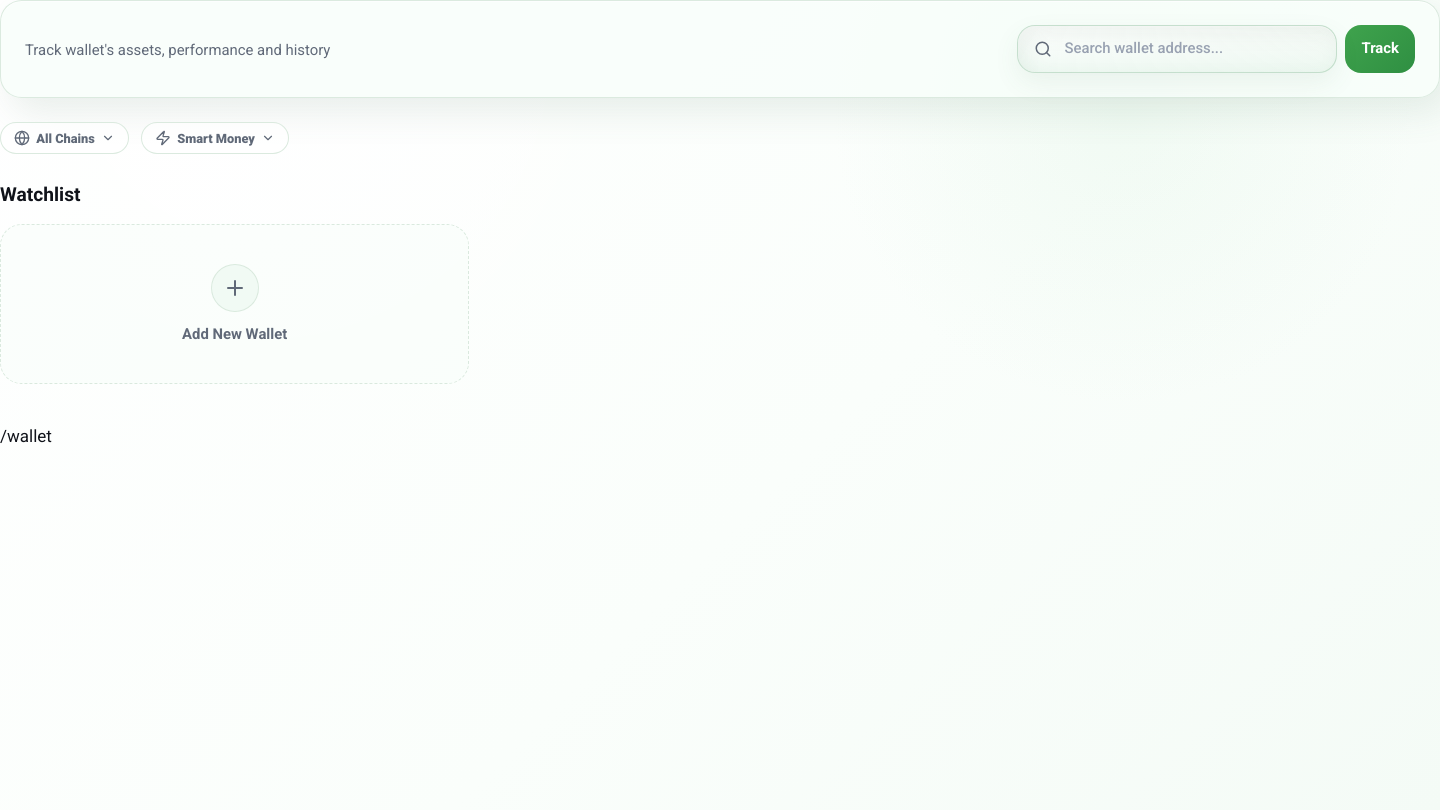
Test case: WalletTracking page › tracks a Solana wallet from search and lands on the Solana profile route
In the field with placeholder "Search wallet address...": (1192, 49) [1064, 38, 1320, 60], type "68VzUdiSmH2yiRZbNm9MCkqND2bNRJmpAQwRjoLEPg6B"
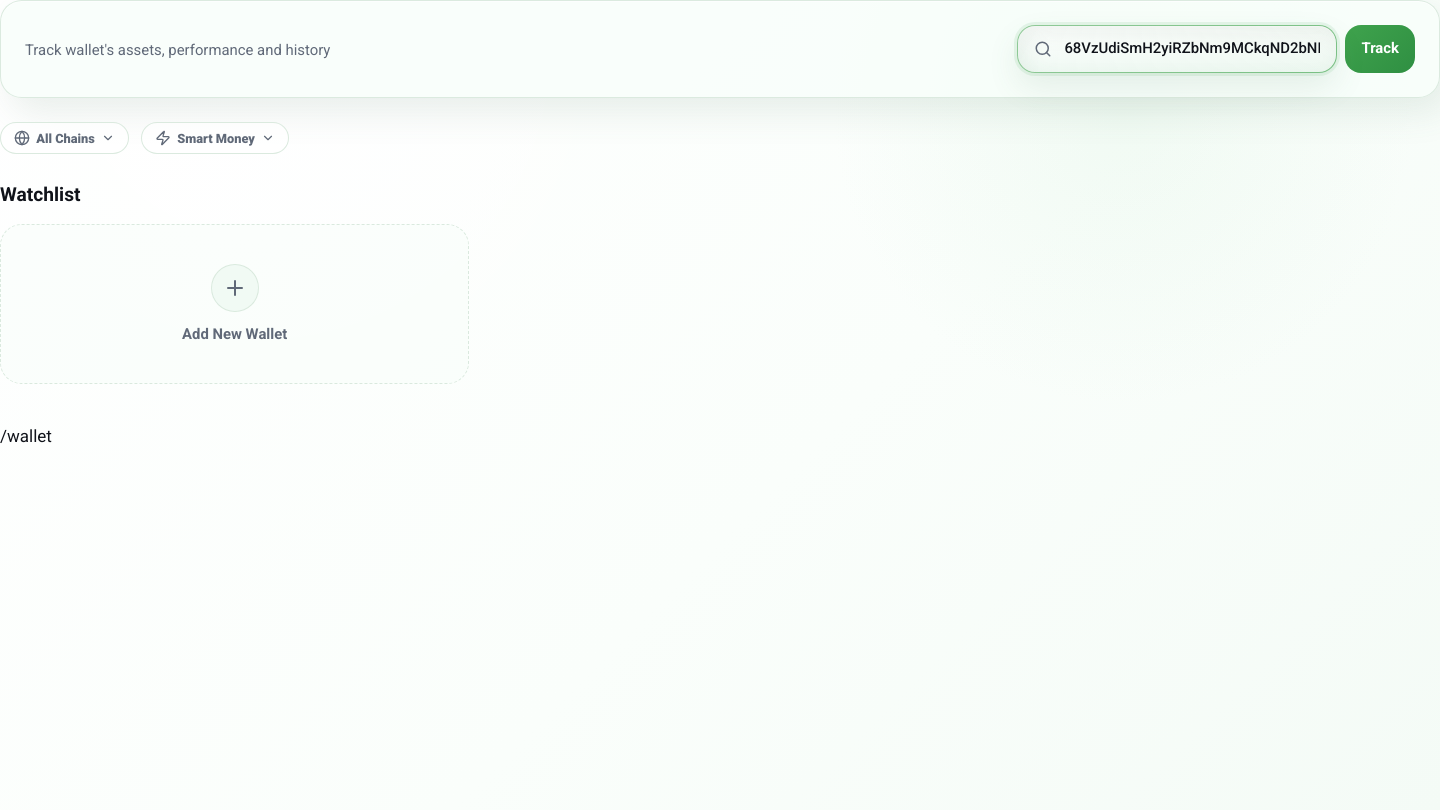
Click the button "Track": (1380, 49) [1345, 25, 1415, 73]
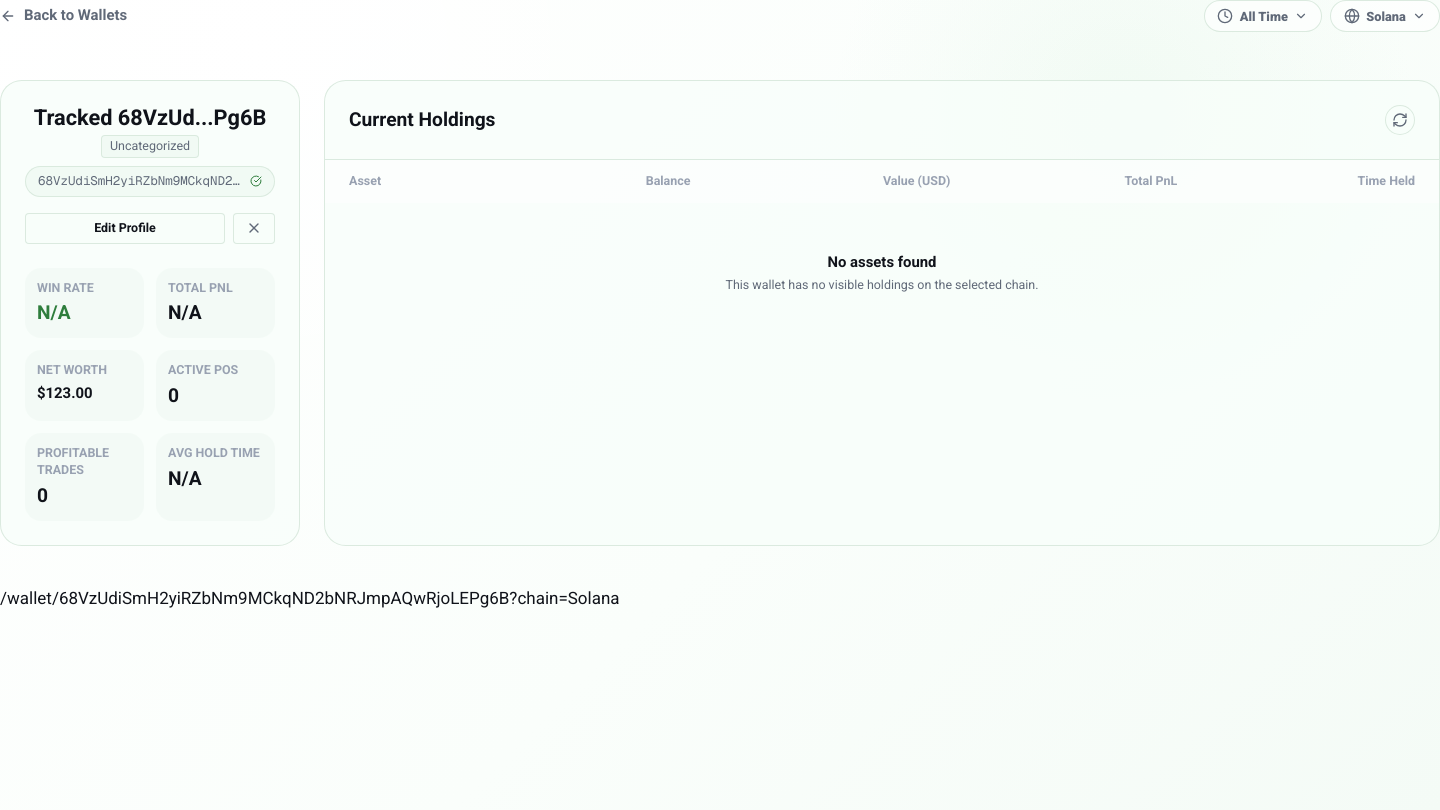
Check: the text "68VzUdiSmH2yiRZbNm9MCkqND2bNRJmpAQwRjoLEPg6B" is shown, box [38, 173, 242, 190]
